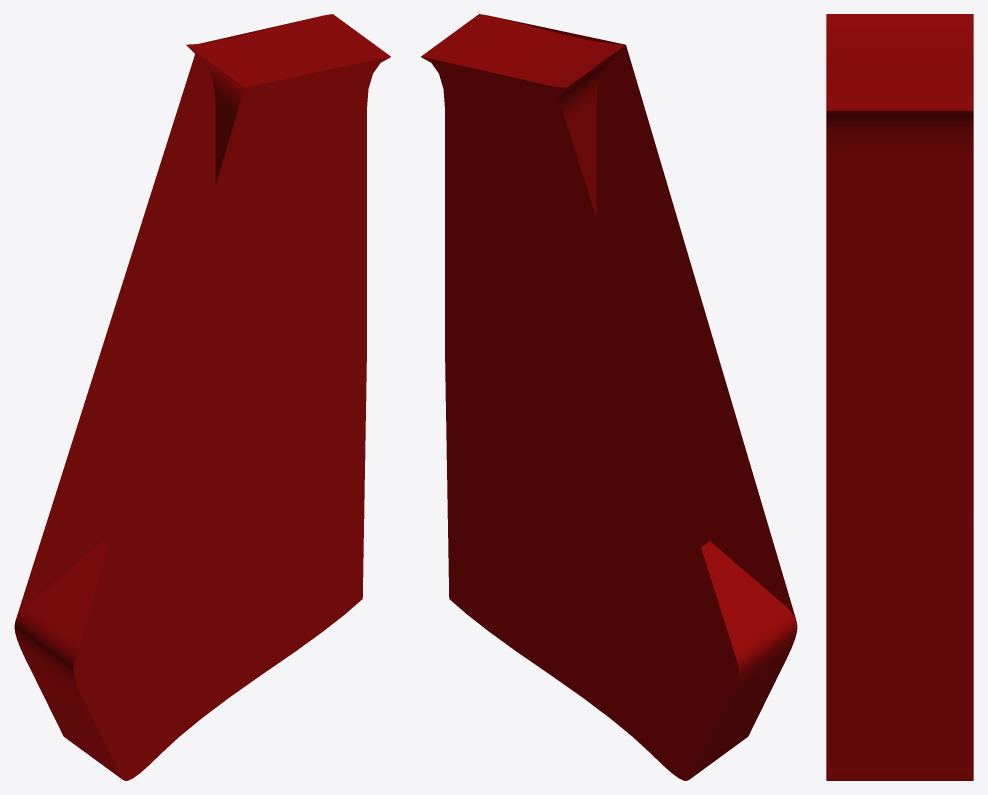
The picture shows the model from 3 angles, left to right: view 1: azimuth 30°, elevation 25°; view 2: azimuth 150°, elevation 25°; view 3: azimuth 270°, elevation 25°; orthographic projection. The views are drawn at different scales.
Visible parts, largest first — view 1: polySurface122; view 2: polySurface122; view 3: polySurface122.
Part boxes in pixels (x1,y1,x2,y2): polySurface122: (14, 14, 390, 780); polySurface122: (421, 14, 797, 780); polySurface122: (826, 14, 973, 780).
Size of the model in its own units: 2.22 by 4.42 by 0.7068.
